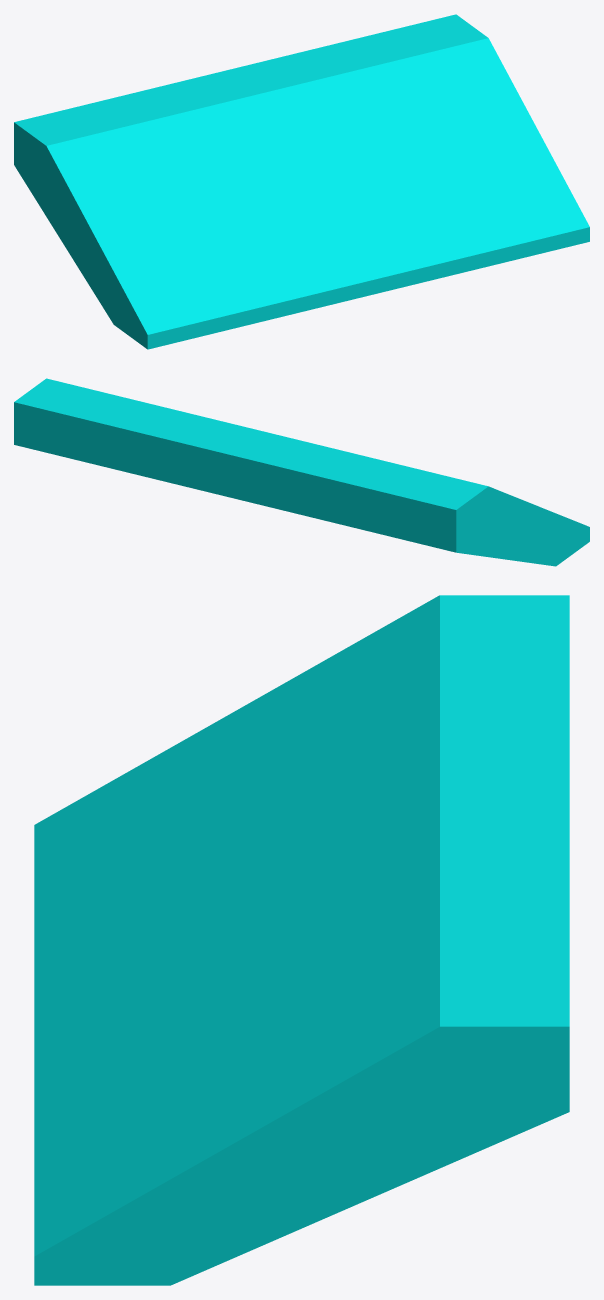
Rendered from SM_Bld_Stairs_Half_01_Collision.fbx.
3 renders of one model, top to bottom at view 1: azimuth 30°, elevation 25°; view 2: azimuth 150°, elevation 25°; view 3: azimuth 270°, elevation 25°, orthographic. The views are drawn at different scales.
Parts seen in each view (by area): view 1: SM_Bld_Stairs_Half_01_Collision; view 2: SM_Bld_Stairs_Half_01_Collision; view 3: SM_Bld_Stairs_Half_01_Collision.
Part boxes in pixels (<box>): SM_Bld_Stairs_Half_01_Collision: <box>14,14,589,349</box>; SM_Bld_Stairs_Half_01_Collision: <box>14,378,589,566</box>; SM_Bld_Stairs_Half_01_Collision: <box>34,595,569,1285</box>.
Bounding box in the file's own units: 252 × 70.41 × 132.
